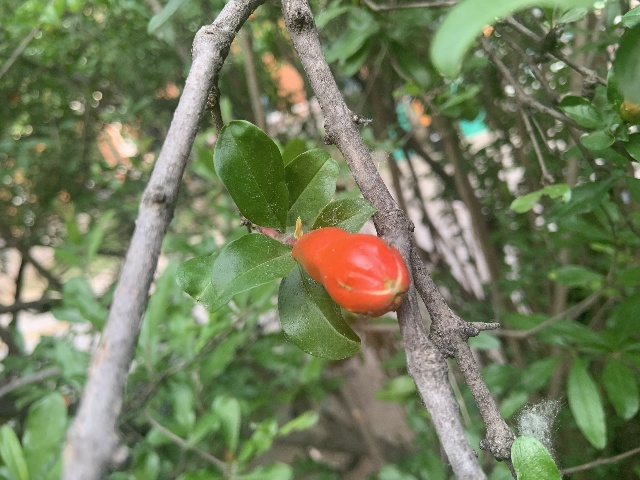bud: (292, 226, 409, 316)
